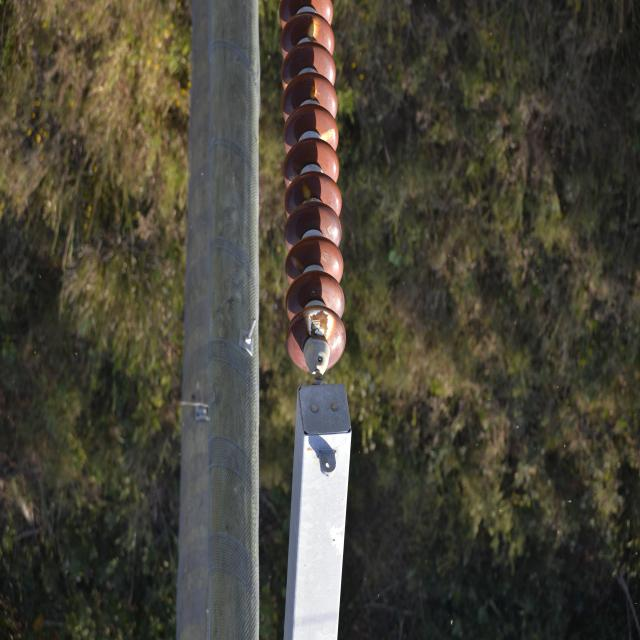insulator: (277, 0, 348, 373)
